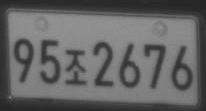2: (92, 41, 114, 87)
5: (38, 39, 61, 84)
6: (170, 44, 193, 91), (118, 43, 141, 88)
7: (143, 43, 166, 89)
9: (13, 37, 34, 83)
조: (63, 48, 89, 86)
